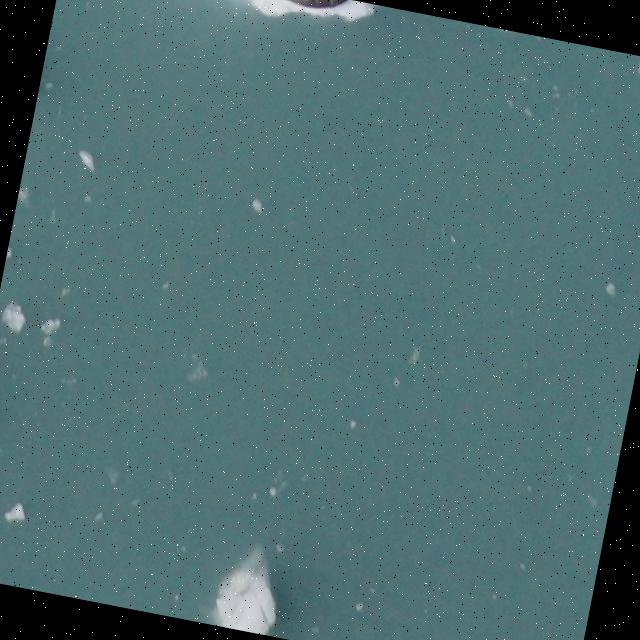seal: (262, 0, 359, 18)
